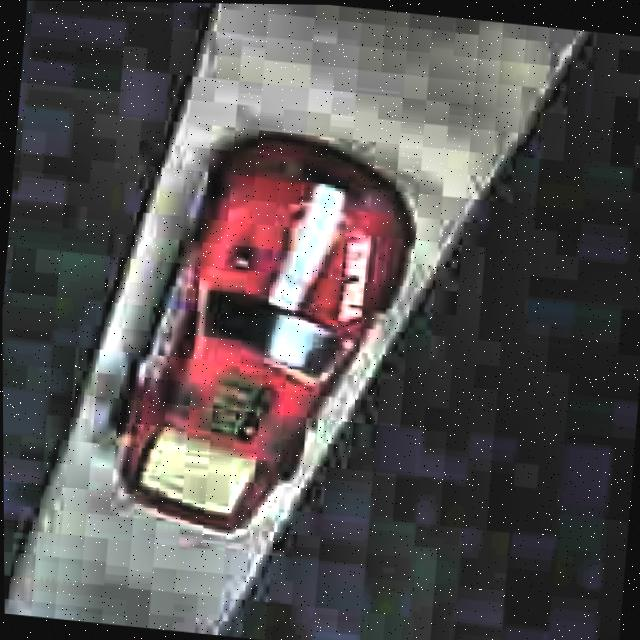car: (99, 115, 430, 554)
